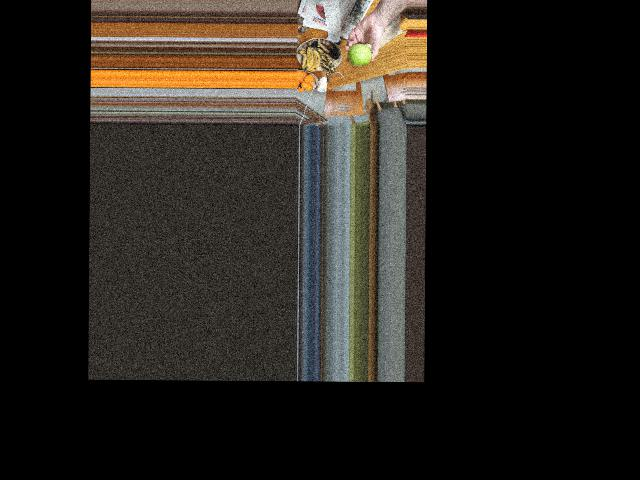apple: (347, 41, 374, 68)
